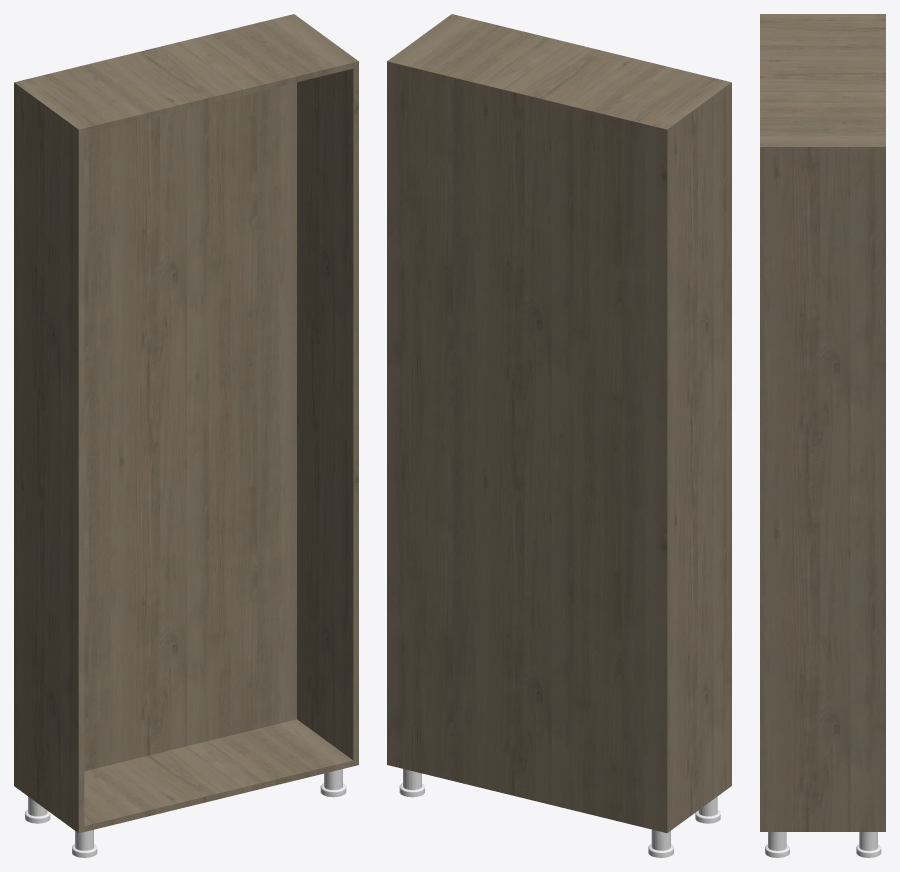
3 renders of one model, left to right at view 1: azimuth 30°, elevation 25°; view 2: azimuth 150°, elevation 25°; view 3: azimuth 270°, elevation 25°, orthographic. The views are drawn at different scales.
Parts seen in each view (by area): view 1: Box001; view 2: Box001; view 3: Box001, Cylinder004, Cylinder005.
Boxes of the visible parts, x1,y1,x2,y2 form: Box001: (14, 14, 358, 833); Box001: (387, 14, 731, 832); Box001: (760, 14, 885, 831); Cylinder004: (856, 832, 881, 857); Cylinder005: (765, 832, 789, 857).
Bounding box in the file's own units: 1 × 2.5 × 0.4001.
Materials: 2 (1 with a texture image).
